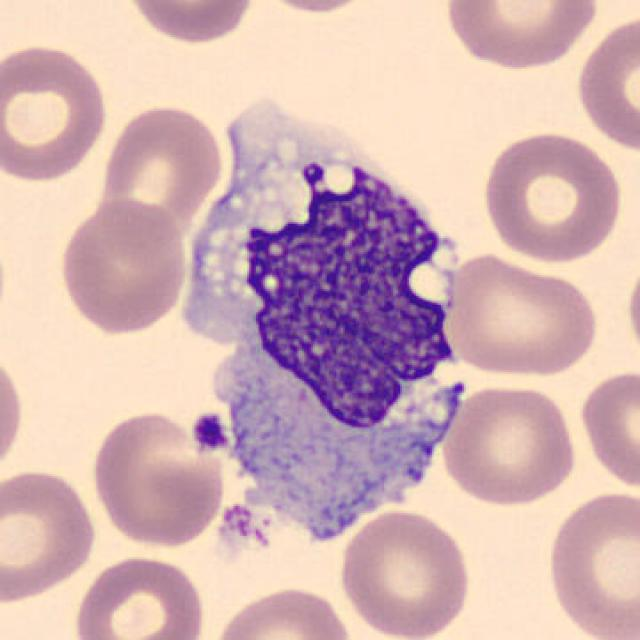Monocyte: (174, 104, 478, 555)
Platelets: (187, 409, 231, 457)
RBC: (437, 250, 601, 381), (478, 127, 628, 266), (87, 406, 231, 550), (94, 99, 228, 245), (55, 197, 192, 337), (336, 506, 476, 640), (438, 381, 580, 509), (0, 39, 112, 185), (542, 485, 638, 640), (0, 464, 100, 606), (69, 552, 208, 640), (441, 0, 603, 74), (572, 11, 638, 155), (208, 582, 356, 640), (574, 365, 640, 494), (119, 0, 260, 46), (0, 342, 27, 481), (247, 0, 384, 16), (624, 245, 640, 374)
